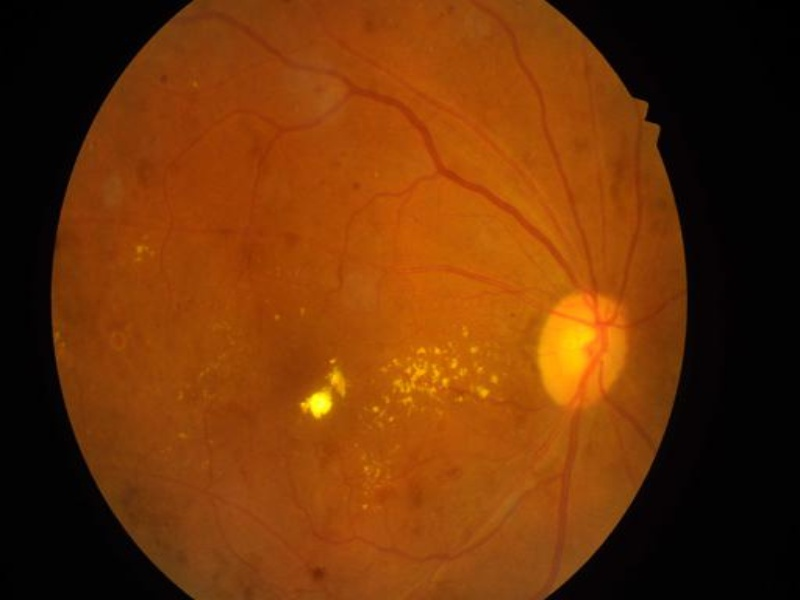Hard_exudates: (374, 358, 463, 408), (298, 388, 334, 422), (360, 465, 386, 495), (324, 368, 345, 397), (131, 243, 159, 264), (368, 407, 387, 424), (52, 331, 66, 348), (476, 385, 490, 400), (218, 317, 232, 330), (488, 374, 501, 386), (450, 358, 462, 371), (225, 333, 236, 347), (433, 347, 450, 356), (206, 363, 222, 372), (460, 326, 472, 338), (389, 443, 402, 454), (357, 453, 370, 464), (199, 387, 209, 401), (164, 445, 175, 457), (297, 306, 307, 319), (415, 346, 428, 356), (272, 264, 281, 278), (261, 296, 275, 305), (175, 389, 185, 401), (370, 170, 382, 180), (176, 432, 189, 441), (326, 356, 337, 366), (190, 80, 201, 90), (467, 346, 480, 354), (473, 366, 485, 374), (215, 352, 225, 361), (359, 503, 370, 511), (353, 413, 365, 420), (271, 314, 281, 322), (446, 340, 456, 348), (197, 370, 205, 379), (386, 416, 396, 423), (351, 442, 361, 449), (385, 16, 393, 23), (427, 46, 435, 53), (374, 505, 384, 510), (184, 383, 191, 389), (418, 2, 424, 8), (501, 372, 508, 377)
Hemorrhages: (609, 160, 626, 219), (115, 480, 143, 513), (403, 479, 426, 513), (128, 160, 151, 190), (274, 230, 303, 251), (567, 136, 593, 159), (306, 564, 329, 581), (439, 464, 462, 480), (359, 17, 378, 36), (406, 521, 426, 538), (212, 225, 232, 239), (154, 71, 171, 86), (310, 81, 326, 96), (204, 569, 221, 582), (346, 181, 364, 193)
